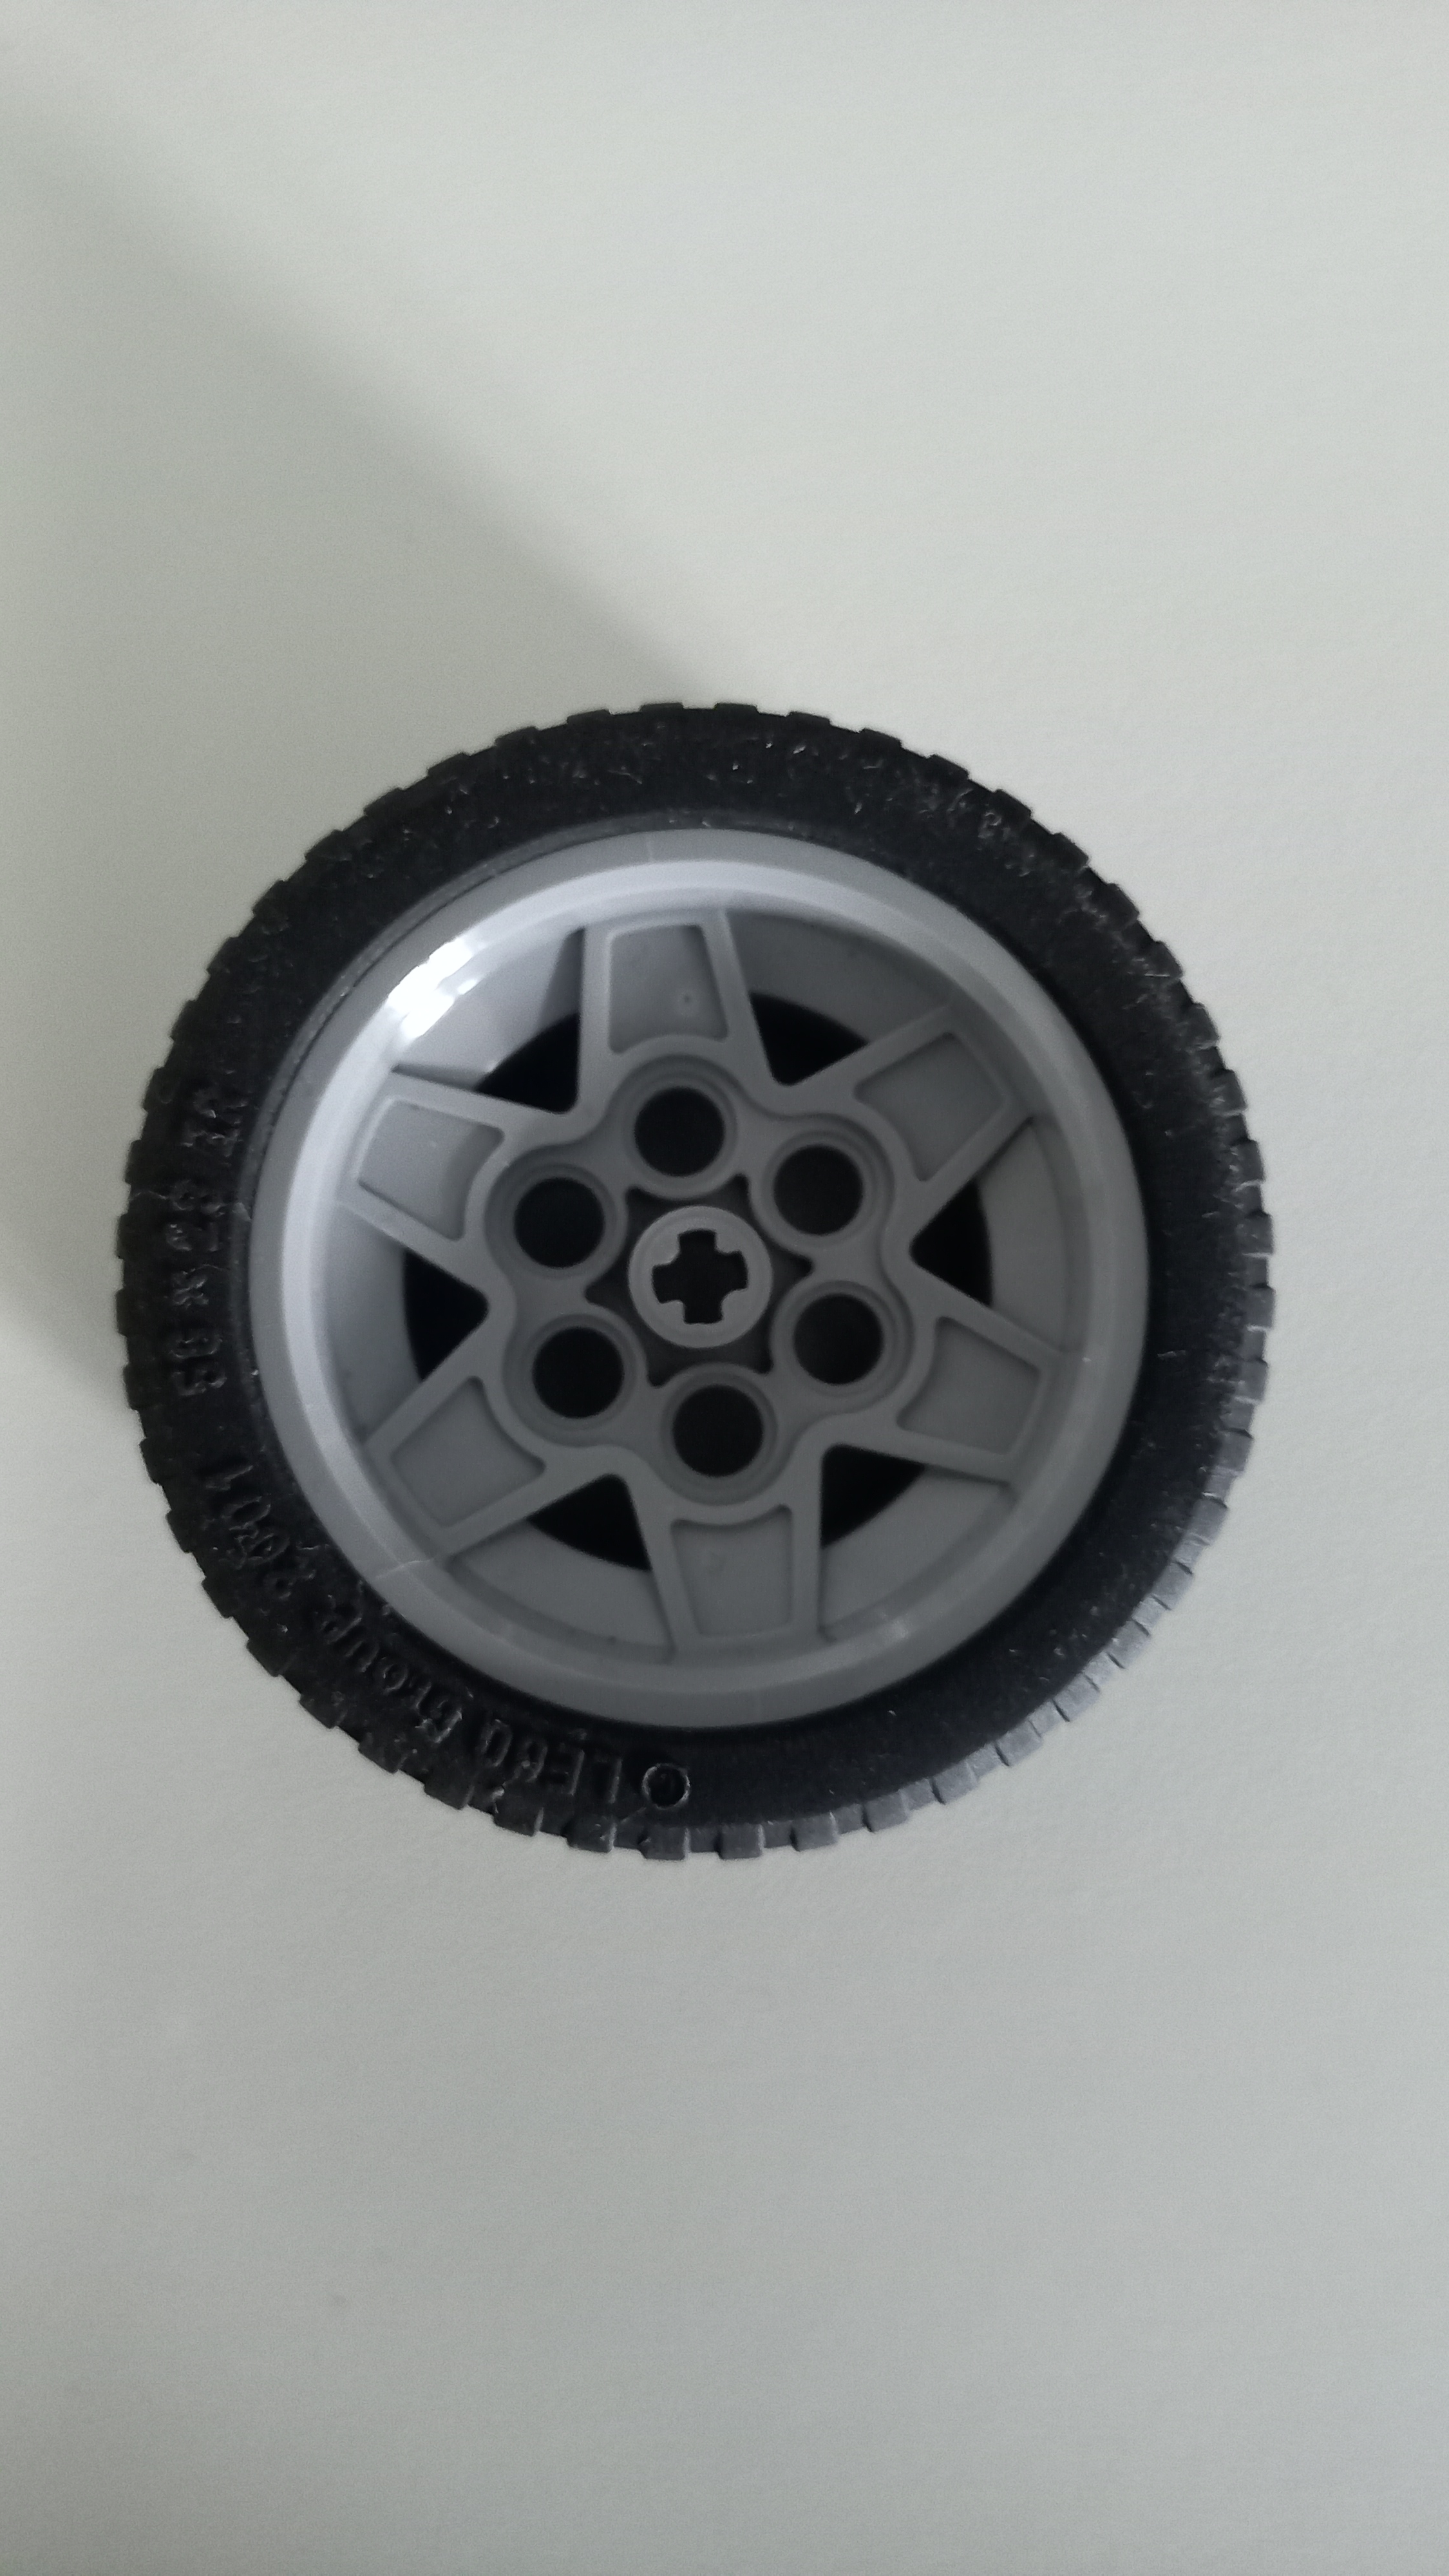Rad: (88, 686, 1316, 1900)
